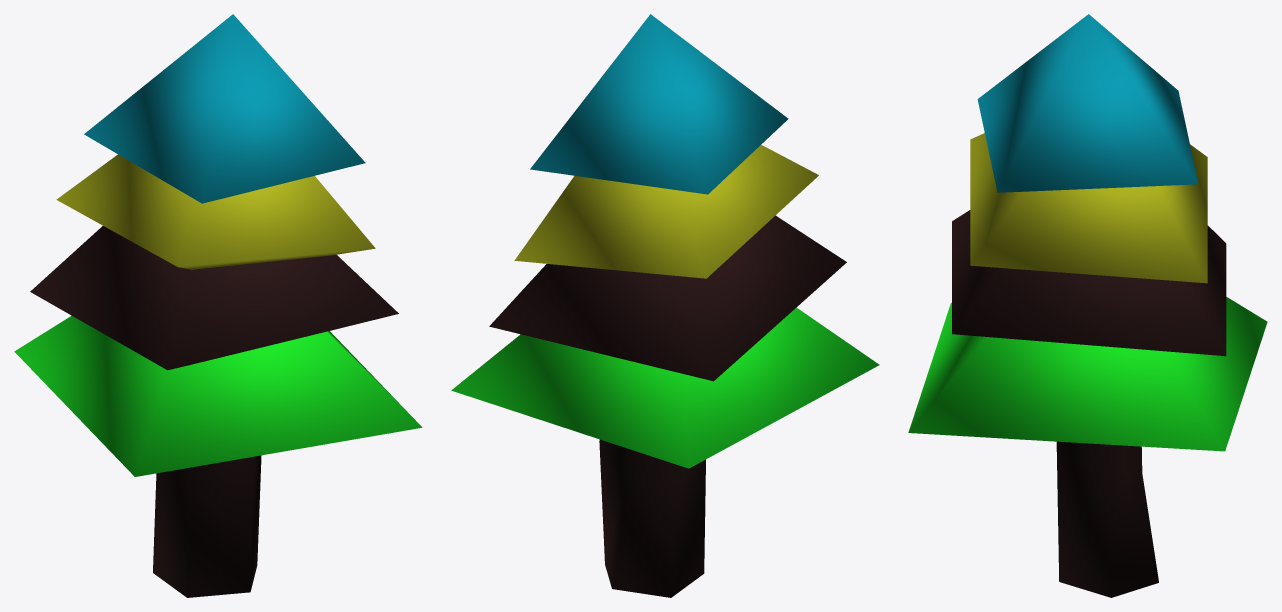
Rendered from tree3.obj.
The picture shows the model from 3 angles, left to right: view 1: azimuth 30°, elevation 25°; view 2: azimuth 150°, elevation 25°; view 3: azimuth 270°, elevation 25°; orthographic projection. The views are drawn at different scales.
Visible parts, largest first — view 1: Cylinder004; view 2: Cylinder004; view 3: Cylinder004.
Part boxes in pixels (bbox=[...]): Cylinder004: bbox=[14, 14, 422, 597]; Cylinder004: bbox=[451, 14, 879, 597]; Cylinder004: bbox=[908, 14, 1267, 597].
Bounding box in the file's own units: 45.77 × 81.59 × 46.89.
